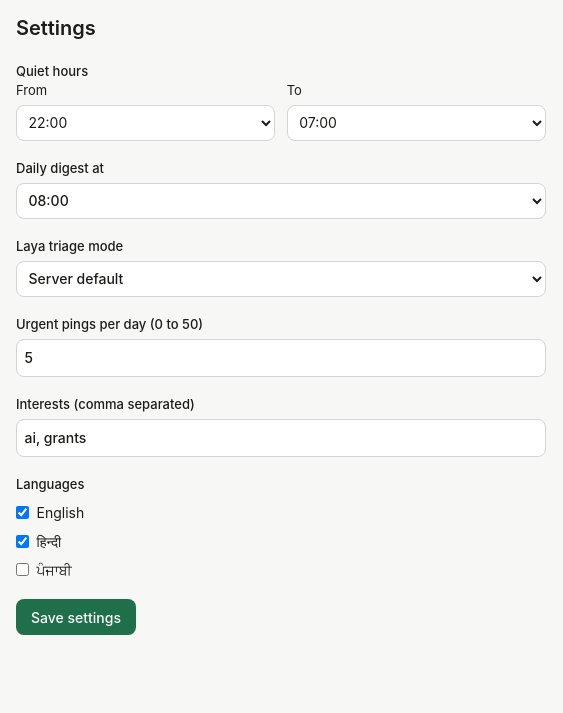
it: SettingsForm › requires at least one language
expect the heading "Settings" is shown: met, box [16, 16, 96, 40]
Click the checkbox labelled "English": (22, 513) [16, 506, 29, 519]
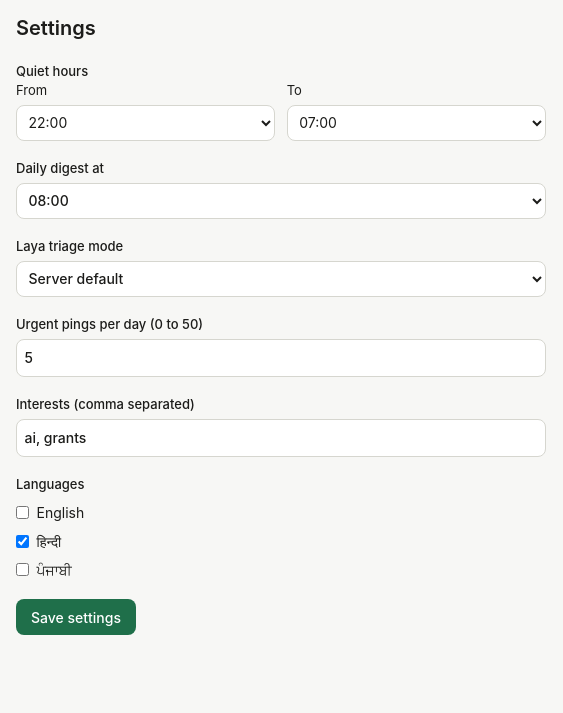
Click the checkbox labelled "हिन्दी": (22, 541) [16, 535, 29, 548]
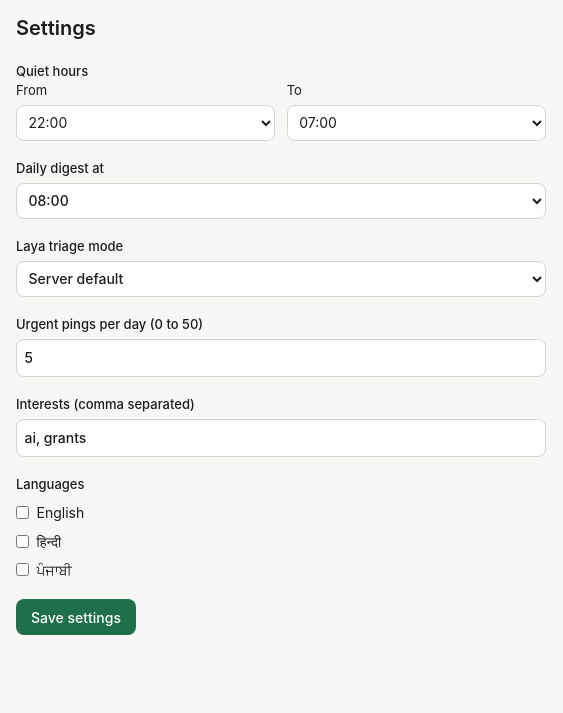
Click the button "Save settings": (76, 617) [16, 599, 136, 635]
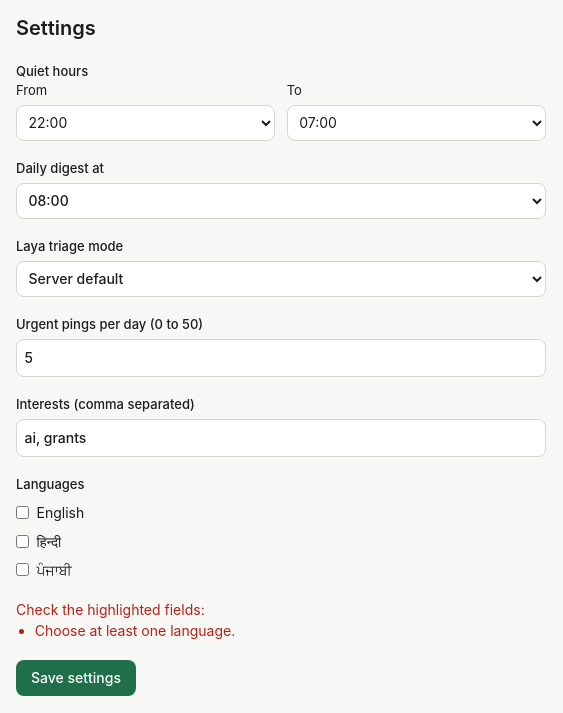
expect the message shows "Choose at least one language.": met, box [35, 622, 235, 639]
